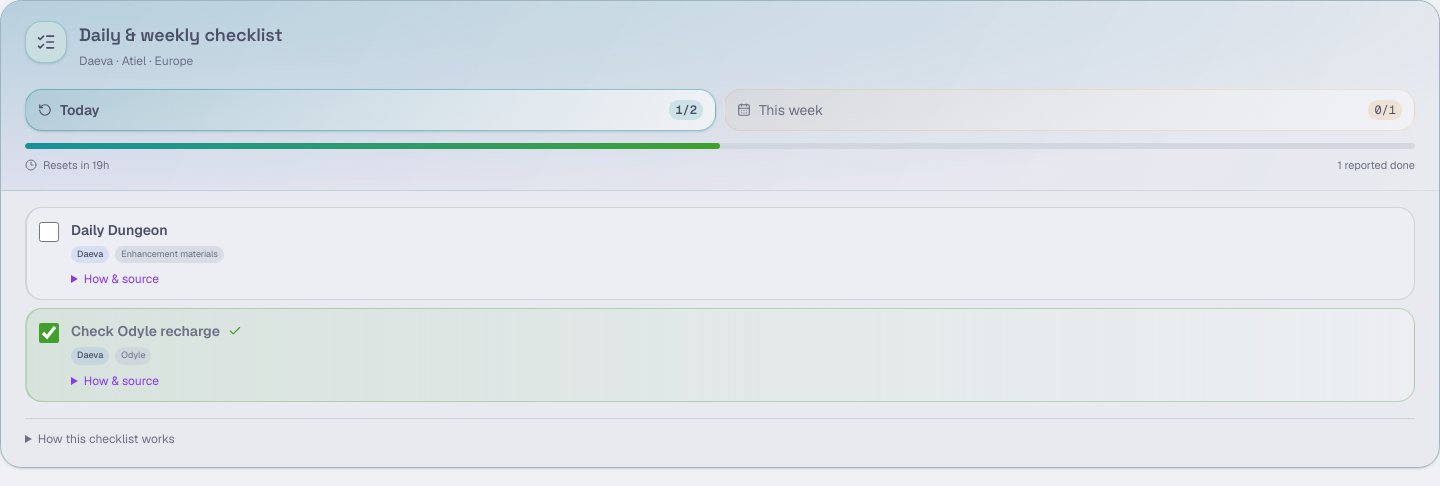
Test: shows actual recurring activity counts, reset countdowns, rewards and source instructions
Expected: the text "Daeva · Atiel · Europe" is shown, x1=79 y1=53 x2=193 y2=69
Expected: the text "Resets in 19h" is shown, x1=43 y1=157 x2=109 y2=174
What coordinates should you click on to do the following:
click the button "This week 0/1"
I would click on:
 (791, 110)
Its box is x1=724 y1=89 x2=1415 y2=131.
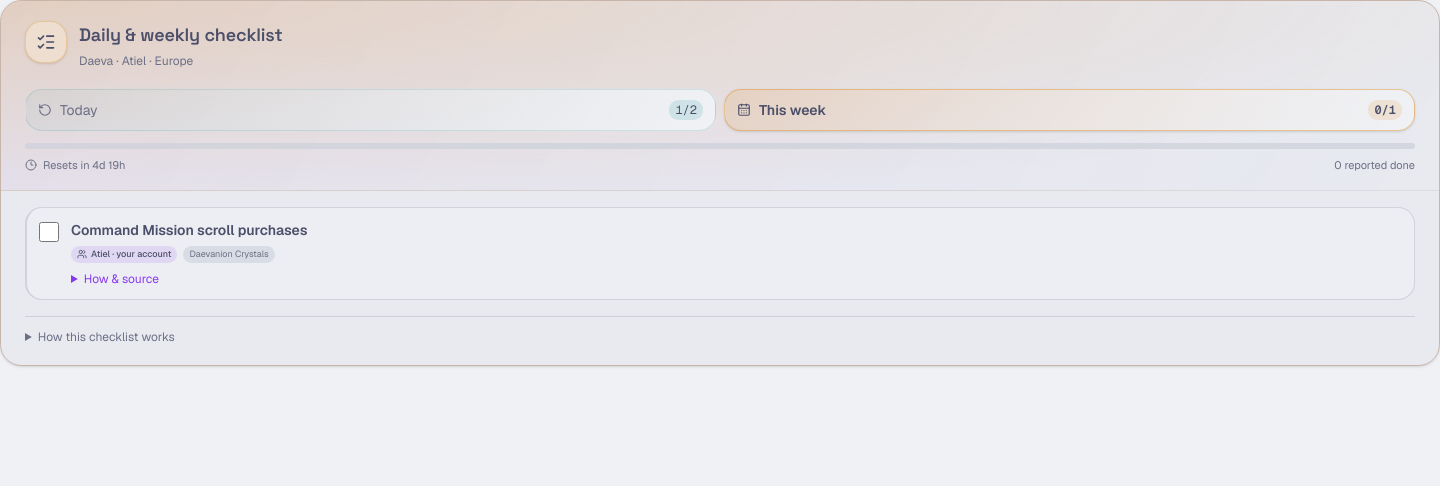
Expected: the heading "Command Mission scroll purchases" is shown, x1=71 y1=220 x2=308 y2=240
Expected: the text "Atiel · your account" is shown, x1=71 y1=246 x2=177 y2=263
Expected: the text "Resets in 4d 19h" is shown, x1=43 y1=157 x2=126 y2=174
